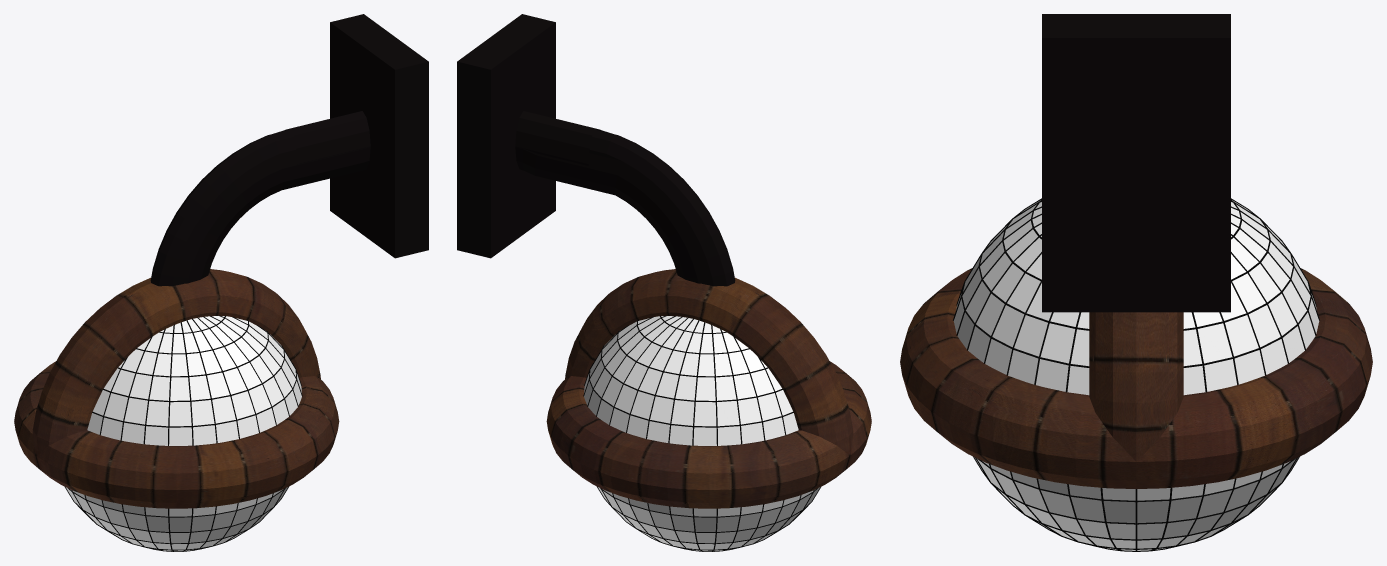
File: discoball.obj
3 views of the same model, side by side, from view 1: azimuth 30°, elevation 25°; view 2: azimuth 150°, elevation 25°; view 3: azimuth 270°, elevation 25° (orthographic). The views are drawn at different scales.
Parts seen in each view (by area): view 1: Sphere, Torus, Cube, Torus.001, Torus.002; view 2: Sphere, Torus, Cube, Torus.001, Torus.002; view 3: Cube, Sphere, Torus, Torus.001.
Part boxes in pixels (x1,y1,x2,y2): Sphere: (64, 315, 302, 551); Torus: (14, 361, 339, 508); Cube: (330, 14, 428, 258); Torus.001: (32, 269, 320, 455); Torus.002: (150, 111, 370, 286); Sphere: (583, 315, 821, 551); Torus: (546, 361, 871, 508); Cube: (457, 14, 555, 258); Torus.001: (565, 269, 853, 455); Torus.002: (515, 111, 735, 286); Cube: (1042, 14, 1230, 312); Sphere: (953, 198, 1319, 551); Torus: (900, 268, 1372, 488); Torus.001: (1089, 312, 1183, 461).
Bounding box in the file's own units: 3.2 × 3.8 × 2.5.
5 materials, 2 textured.
